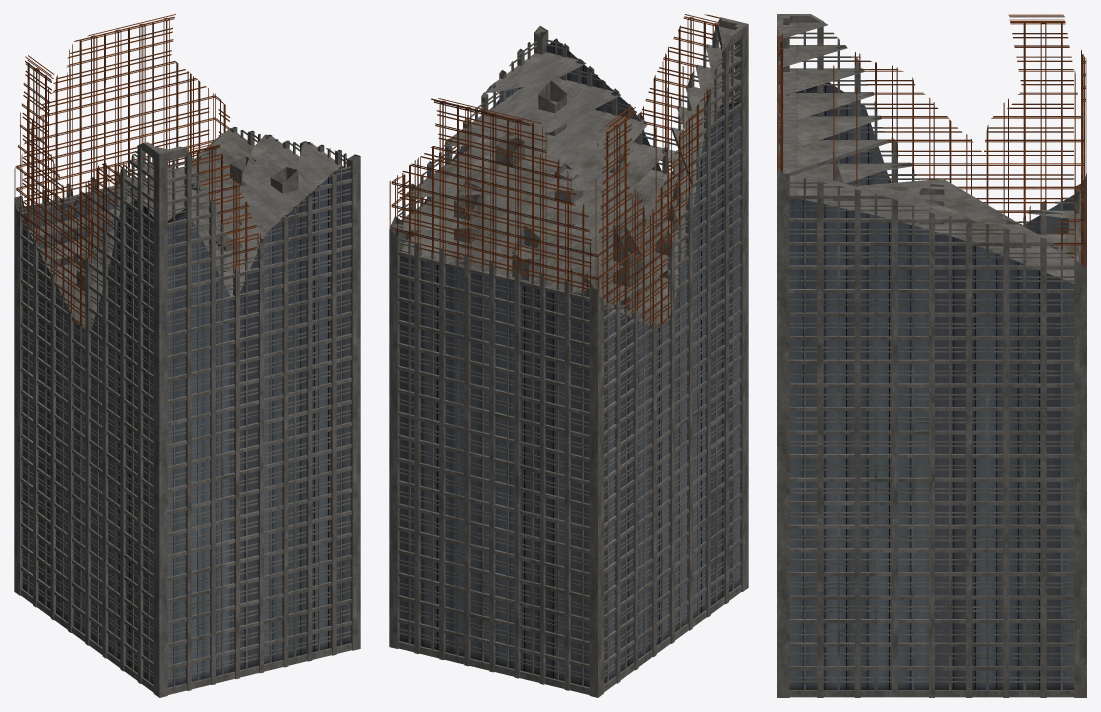
The model's file is building_07.glb.
3 renders of one model, left to right at view 1: azimuth 30°, elevation 25°; view 2: azimuth 150°, elevation 25°; view 3: azimuth 270°, elevation 25°, orthographic. The views are drawn at different scales.
Parts seen in each view (by area): view 1: Building 07; view 2: Building 07; view 3: Building 07.
Part boxes in pixels (x1=…): Building 07: x1=14, y1=14, x2=360, y2=697; Building 07: x1=389, y1=14, x2=748, y2=697; Building 07: x1=777, y1=14, x2=1086, y2=697.
Bounding box in the file's own units: 50 × 129 × 62.5.
Materials: 3 (3 with a texture image).
